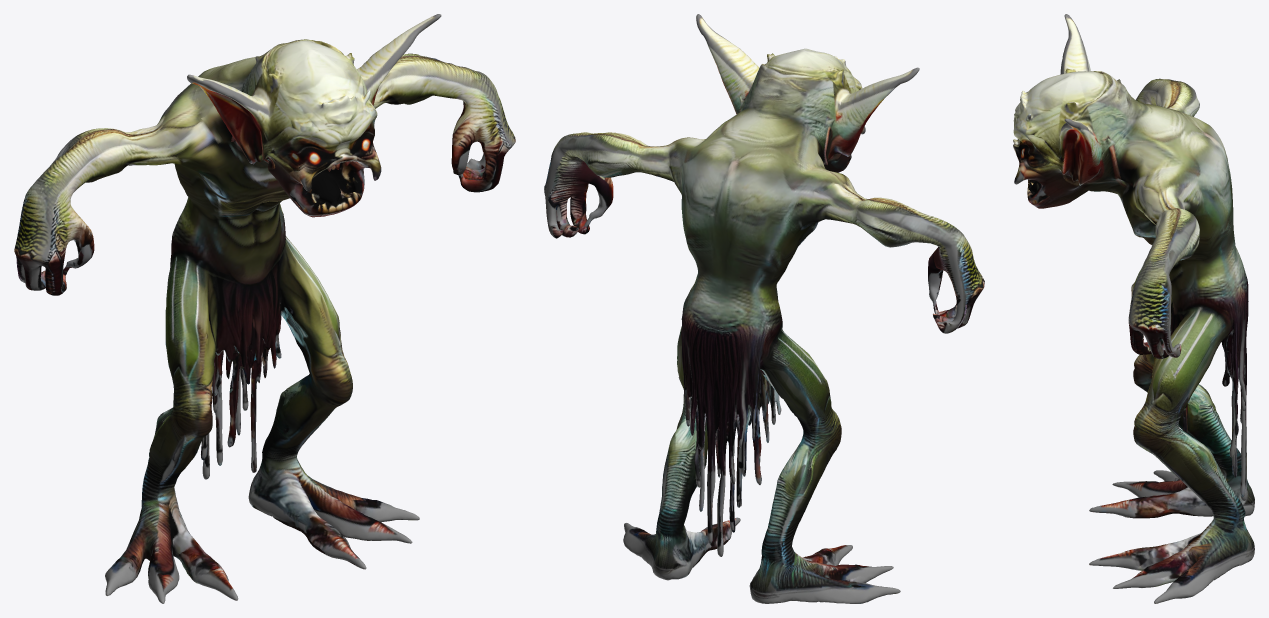
Rendered from Tripo.glb.
The picture shows the model from 3 angles, left to right: view 1: azimuth 30°, elevation 25°; view 2: azimuth 150°, elevation 25°; view 3: azimuth 270°, elevation 25°; orthographic projection. The views are drawn at different scales.
Visible parts, largest first — view 1: geometry_0; view 2: geometry_0; view 3: geometry_0.
Part boxes in pixels (x1,y1,x2,y2): geometry_0: (14,14,515,603); geometry_0: (544,14,984,603); geometry_0: (1013,14,1254,603).
Size of the model in its own units: 1.74 by 1.86 by 0.8602.
Materials: 1 (1 with a texture image).
